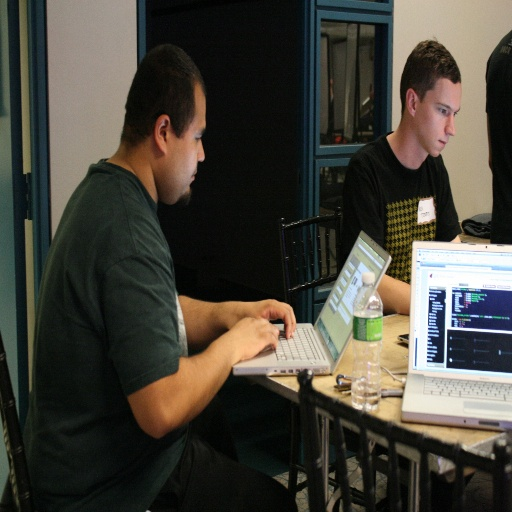hand: (174, 295, 305, 387), (225, 315, 279, 360)
